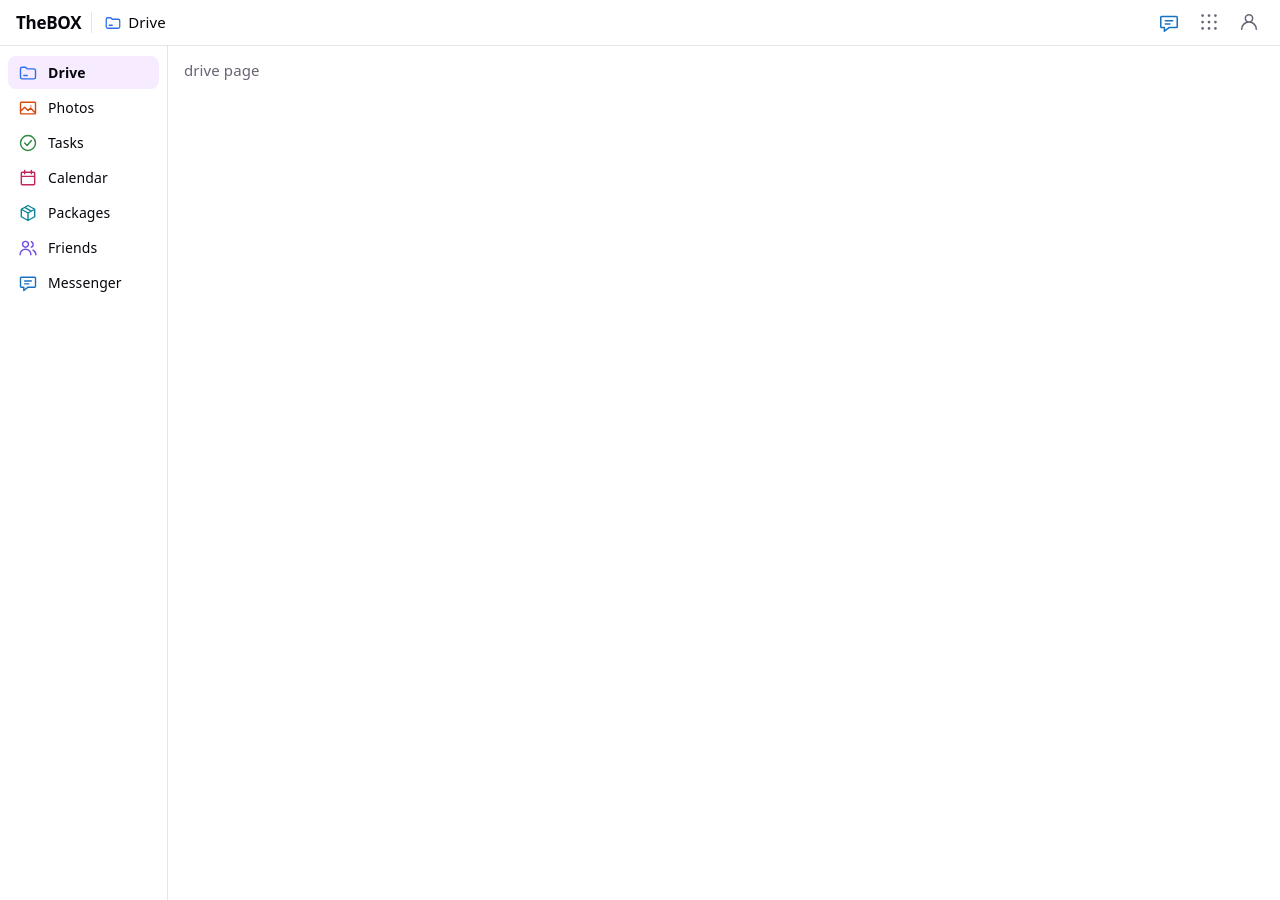
Test: Messenger panel › keeps the text and shows the error when a message cannot be sent
Click the button named "Messenger". click: (1169,22)
box: [1154, 8, 1184, 38]
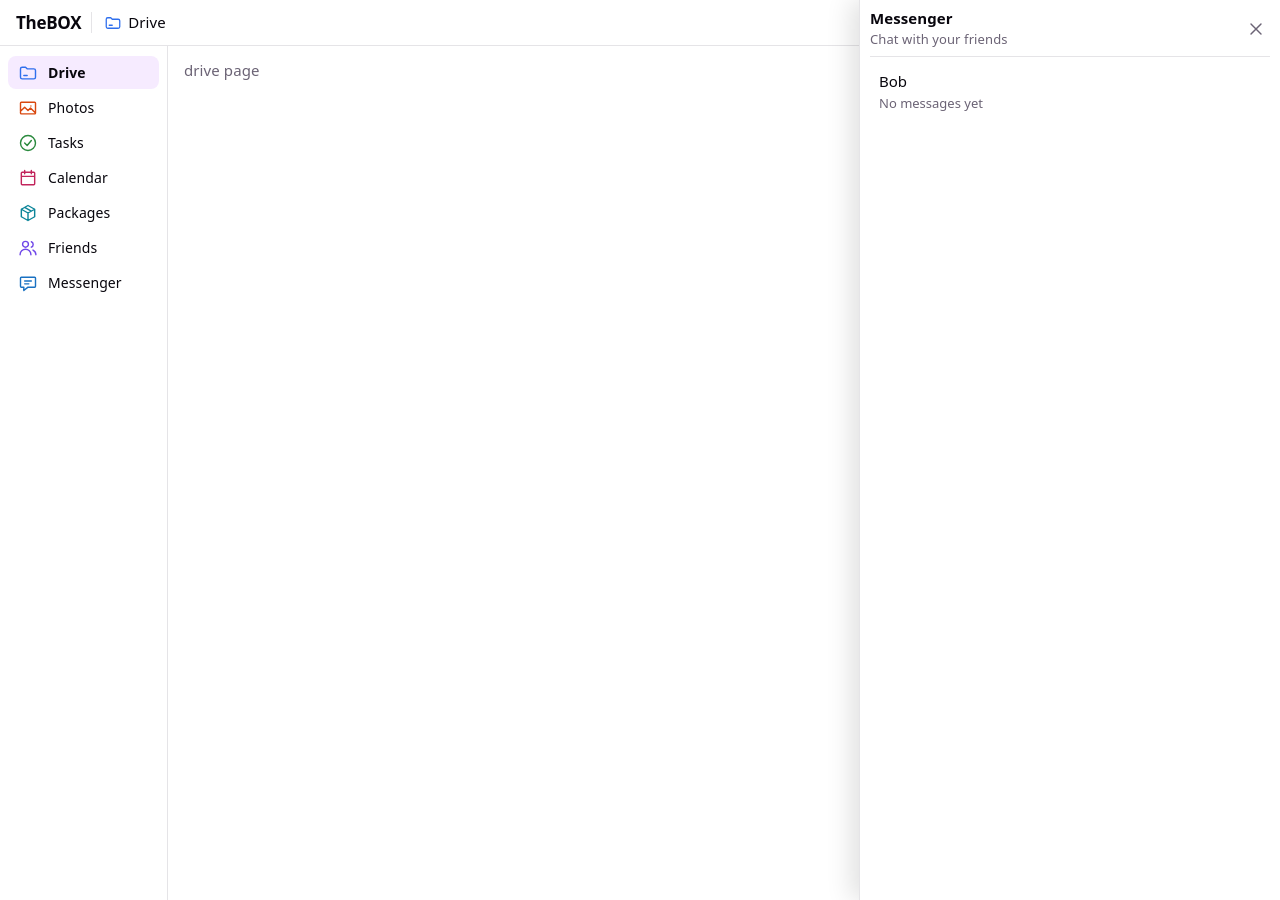
Click the button "Bob No messages yet". click: (931,103)
box: [870, 65, 1270, 120]
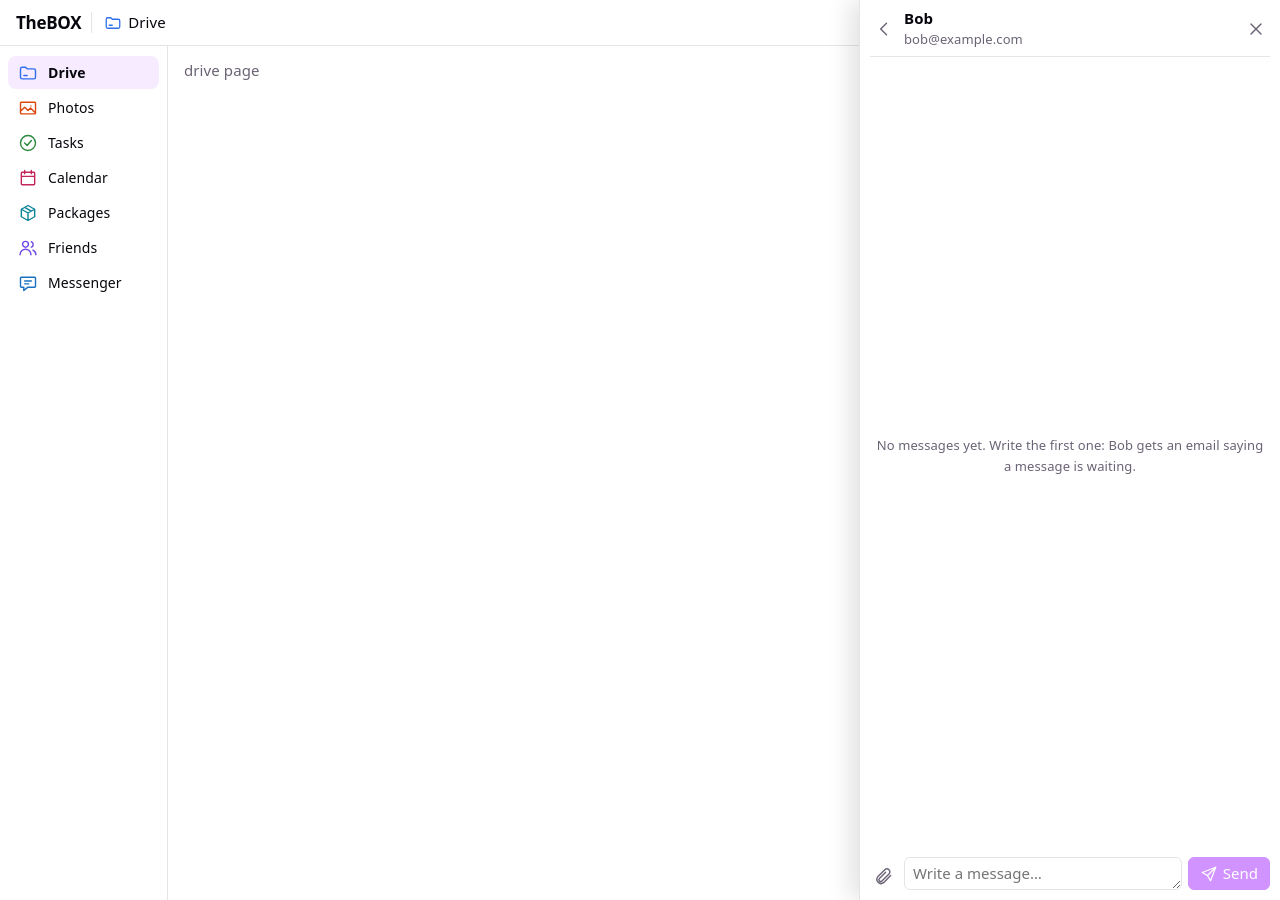
Expected: the text "No messages yet. Write the first one" is shown, [877, 436, 1108, 454]
Type "Hello" into the text box named "Message to Bob". click: (1043,874)
box: [904, 857, 1182, 890]
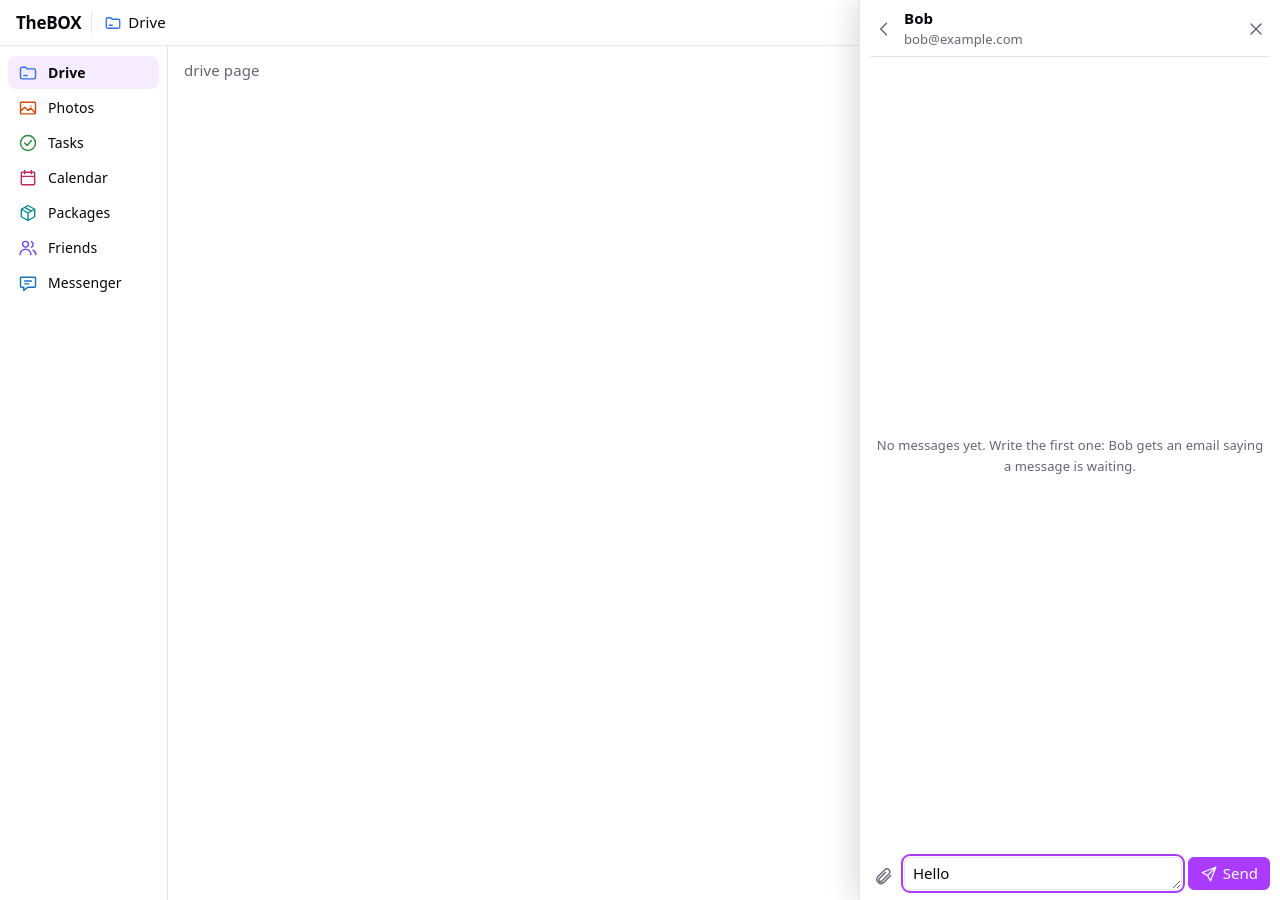
Click the button "Send". click: (1229,874)
box: [1188, 857, 1270, 890]
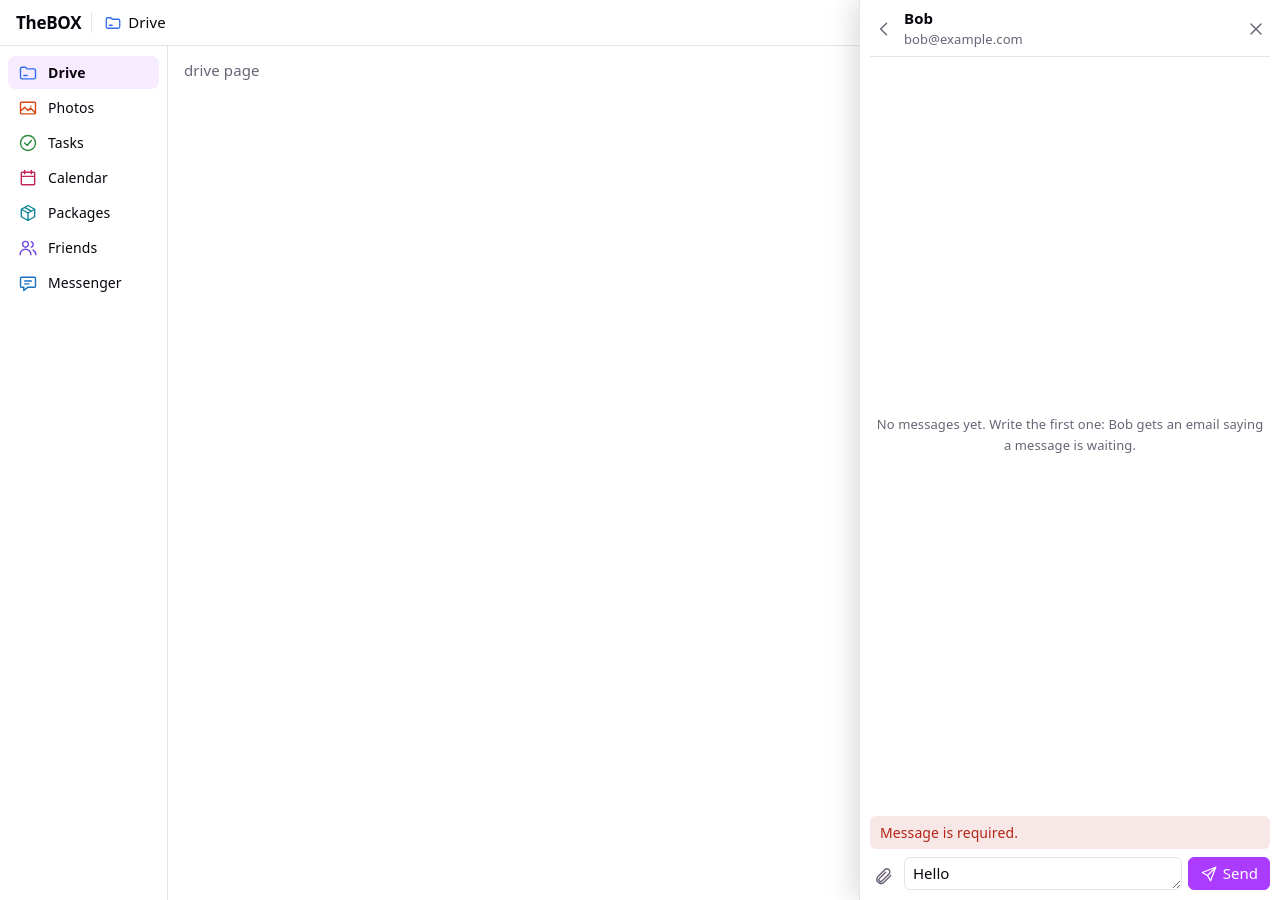
Expected: the message reads "Message is required.", [880, 823, 1018, 842]
